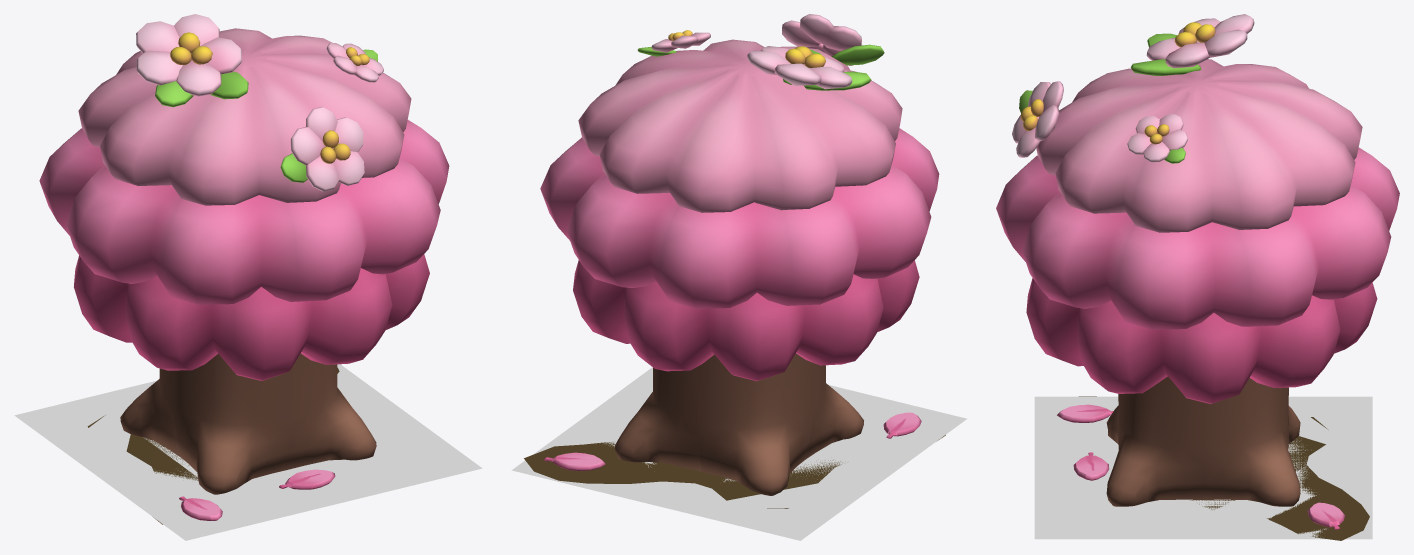
Rendered from JP_Sakura.fbx.
3 views of the same model, side by side, from view 1: azimuth 30°, elevation 25°; view 2: azimuth 150°, elevation 25°; view 3: azimuth 270°, elevation 25° (orthographic). The views are drawn at different scales.
Parts seen in each view (by area): view 1: polySurface36, Sakura_Grid_Large, polySurface7, polySurface11, Shadow; view 2: polySurface36, polySurface7, Sakura_Grid_Large, Shadow, polySurface11; view 3: polySurface36, Sakura_Grid_Large, polySurface7, Shadow, polySurface11.
Part boxes in pixels (<box>): polySurface36: <box>39,14,449,380</box>; Sakura_Grid_Large: <box>14,364,482,540</box>; polySurface7: <box>120,353,376,494</box>; polySurface11: <box>179,469,335,520</box>; Shadow: <box>87,367,339,524</box>; polySurface36: <box>540,14,939,381</box>; polySurface7: <box>615,353,863,495</box>; Sakura_Grid_Large: <box>511,367,967,540</box>; Shadow: <box>524,435,945,508</box>; polySurface11: <box>544,412,921,470</box>; polySurface36: <box>996,14,1399,404</box>; Sakura_Grid_Large: <box>1034,396,1372,539</box>; polySurface7: <box>1106,376,1300,506</box>; Shadow: <box>1079,396,1369,540</box>; polySurface11: <box>1057,404,1345,529</box>.
Size of the model in its own units: 2.39 by 2.75 by 2.39.
